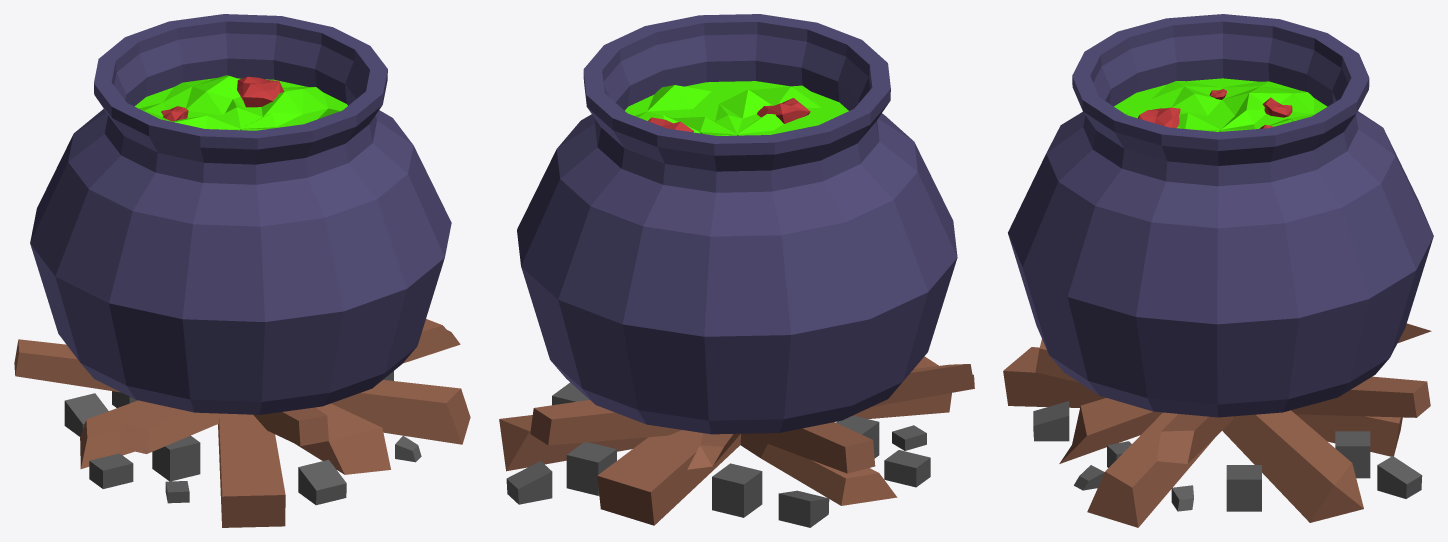
Rendered from Cauldron.fbx.
3 views of the same model, side by side, from view 1: azimuth 30°, elevation 25°; view 2: azimuth 150°, elevation 25°; view 3: azimuth 270°, elevation 25° (orthographic). The views are drawn at different scales.
Visible parts, largest first — view 1: Cauldron_Geo; view 2: Cauldron_Geo; view 3: Cauldron_Geo.
Boxes of the visible parts, x1=… form: Cauldron_Geo: x1=14, y1=14, x2=470, y2=527; Cauldron_Geo: x1=499, y1=14, x2=974, y2=527; Cauldron_Geo: x1=1003, y1=14, x2=1433, y2=527.
Size of the model in its own units: 45.71 by 41.5 by 44.97.
